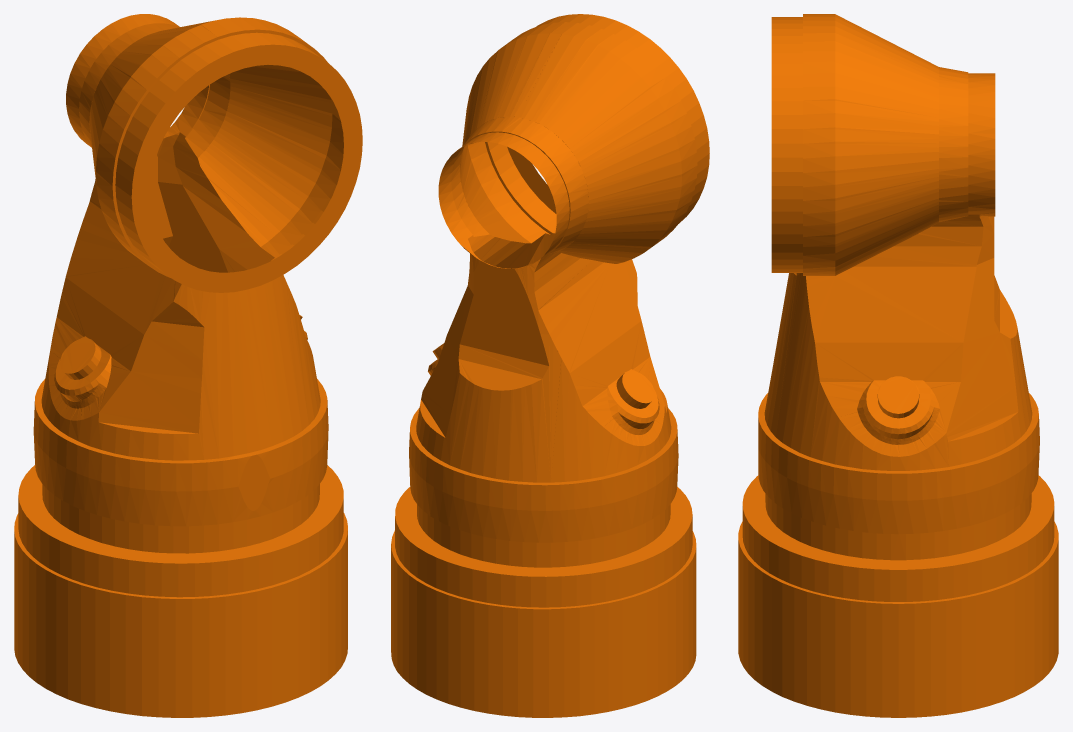
The model's file is Eslabon4.obj.
The picture shows the model from 3 angles, left to right: view 1: azimuth 30°, elevation 25°; view 2: azimuth 150°, elevation 25°; view 3: azimuth 270°, elevation 25°; orthographic projection. The views are drawn at different scales.
Visible parts, largest first — view 1: default; view 2: default; view 3: default.
Part boxes in pixels (<box>): default: <box>14,14,362,717</box>; default: <box>391,14,709,717</box>; default: <box>738,14,1058,717</box>.
Size of the model in its own units: 0.154 by 0.3311 by 0.1539.
